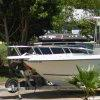Boat: (6, 37, 99, 84)
